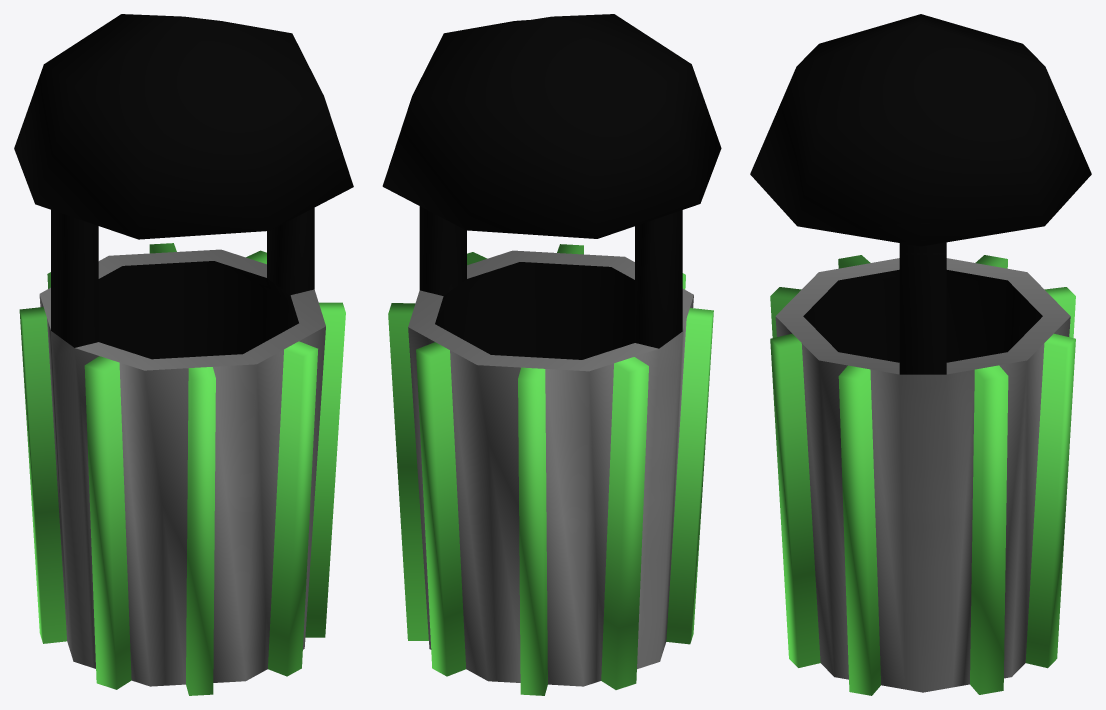
File: Rubbish_6.fbx
3 views of the same model, side by side, from view 1: azimuth 30°, elevation 25°; view 2: azimuth 150°, elevation 25°; view 3: azimuth 270°, elevation 25° (orthographic).
Parts seen in each view (by area): view 1: Rubbish_6; view 2: Rubbish_6; view 3: Rubbish_6.
Part boxes in pixels (x1=…): Rubbish_6: x1=14, y1=14, x2=353, y2=695; Rubbish_6: x1=382, y1=14, x2=721, y2=695; Rubbish_6: x1=750, y1=14, x2=1091, y2=695.
Size of the model in its own units: 68.6 by 137 by 68.6.
Materials: 1 (1 with a texture image).
